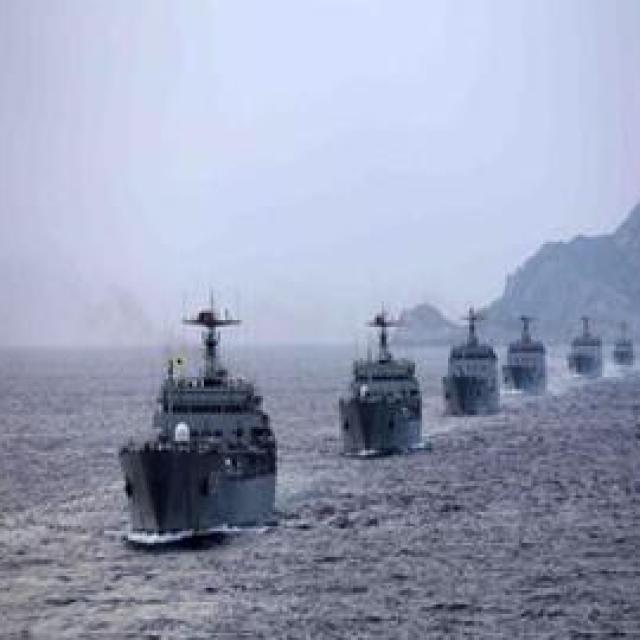navalvessels: (118, 291, 280, 536), (330, 299, 423, 449), (439, 301, 501, 419), (503, 307, 547, 399), (564, 308, 604, 378), (612, 320, 636, 366)
